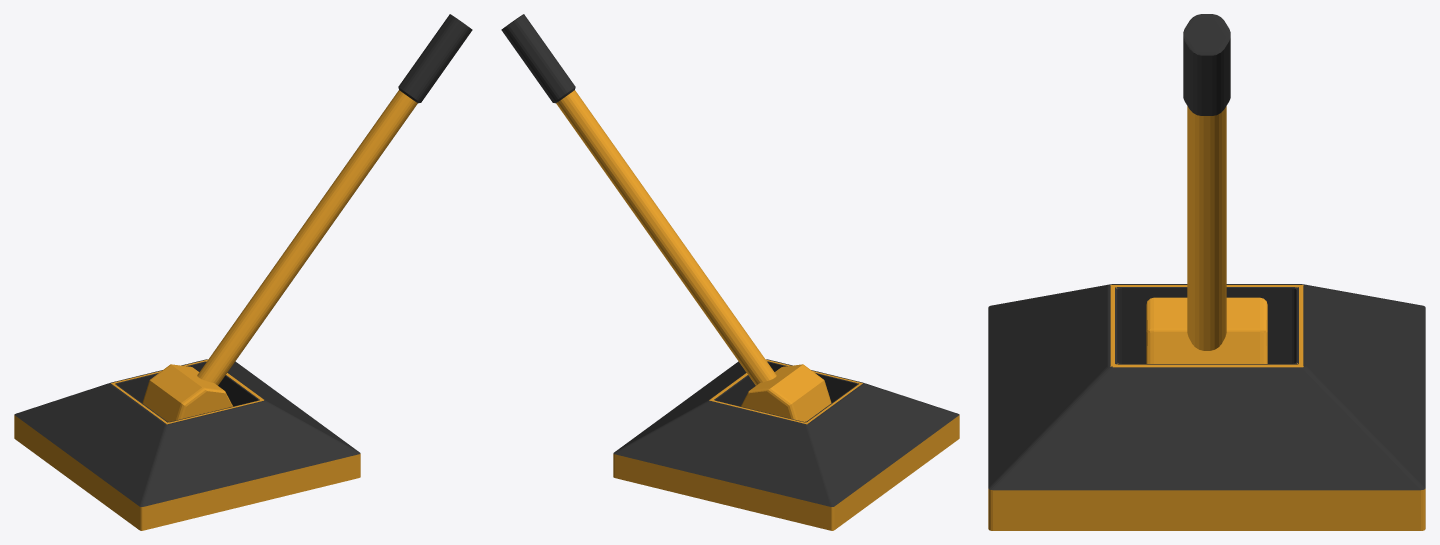
File: leaver.fbx
3 renders of one model, left to right at view 1: azimuth 30°, elevation 25°; view 2: azimuth 150°, elevation 25°; view 3: azimuth 270°, elevation 25°, orthographic. The views are drawn at different scales.
Visible parts, largest first — view 1: Cube, Cube.002; view 2: Cube, Cube.002; view 3: Cube, Cube.002.
Part boxes in pixels (x1,y1,x2,y2): Cube: (14, 359, 360, 530); Cube.002: (142, 14, 472, 421); Cube: (613, 359, 959, 530); Cube.002: (501, 14, 831, 421); Cube: (988, 284, 1425, 530); Cube.002: (1146, 14, 1267, 363).
Bounding box in the file's own units: 202 × 185 × 114.
